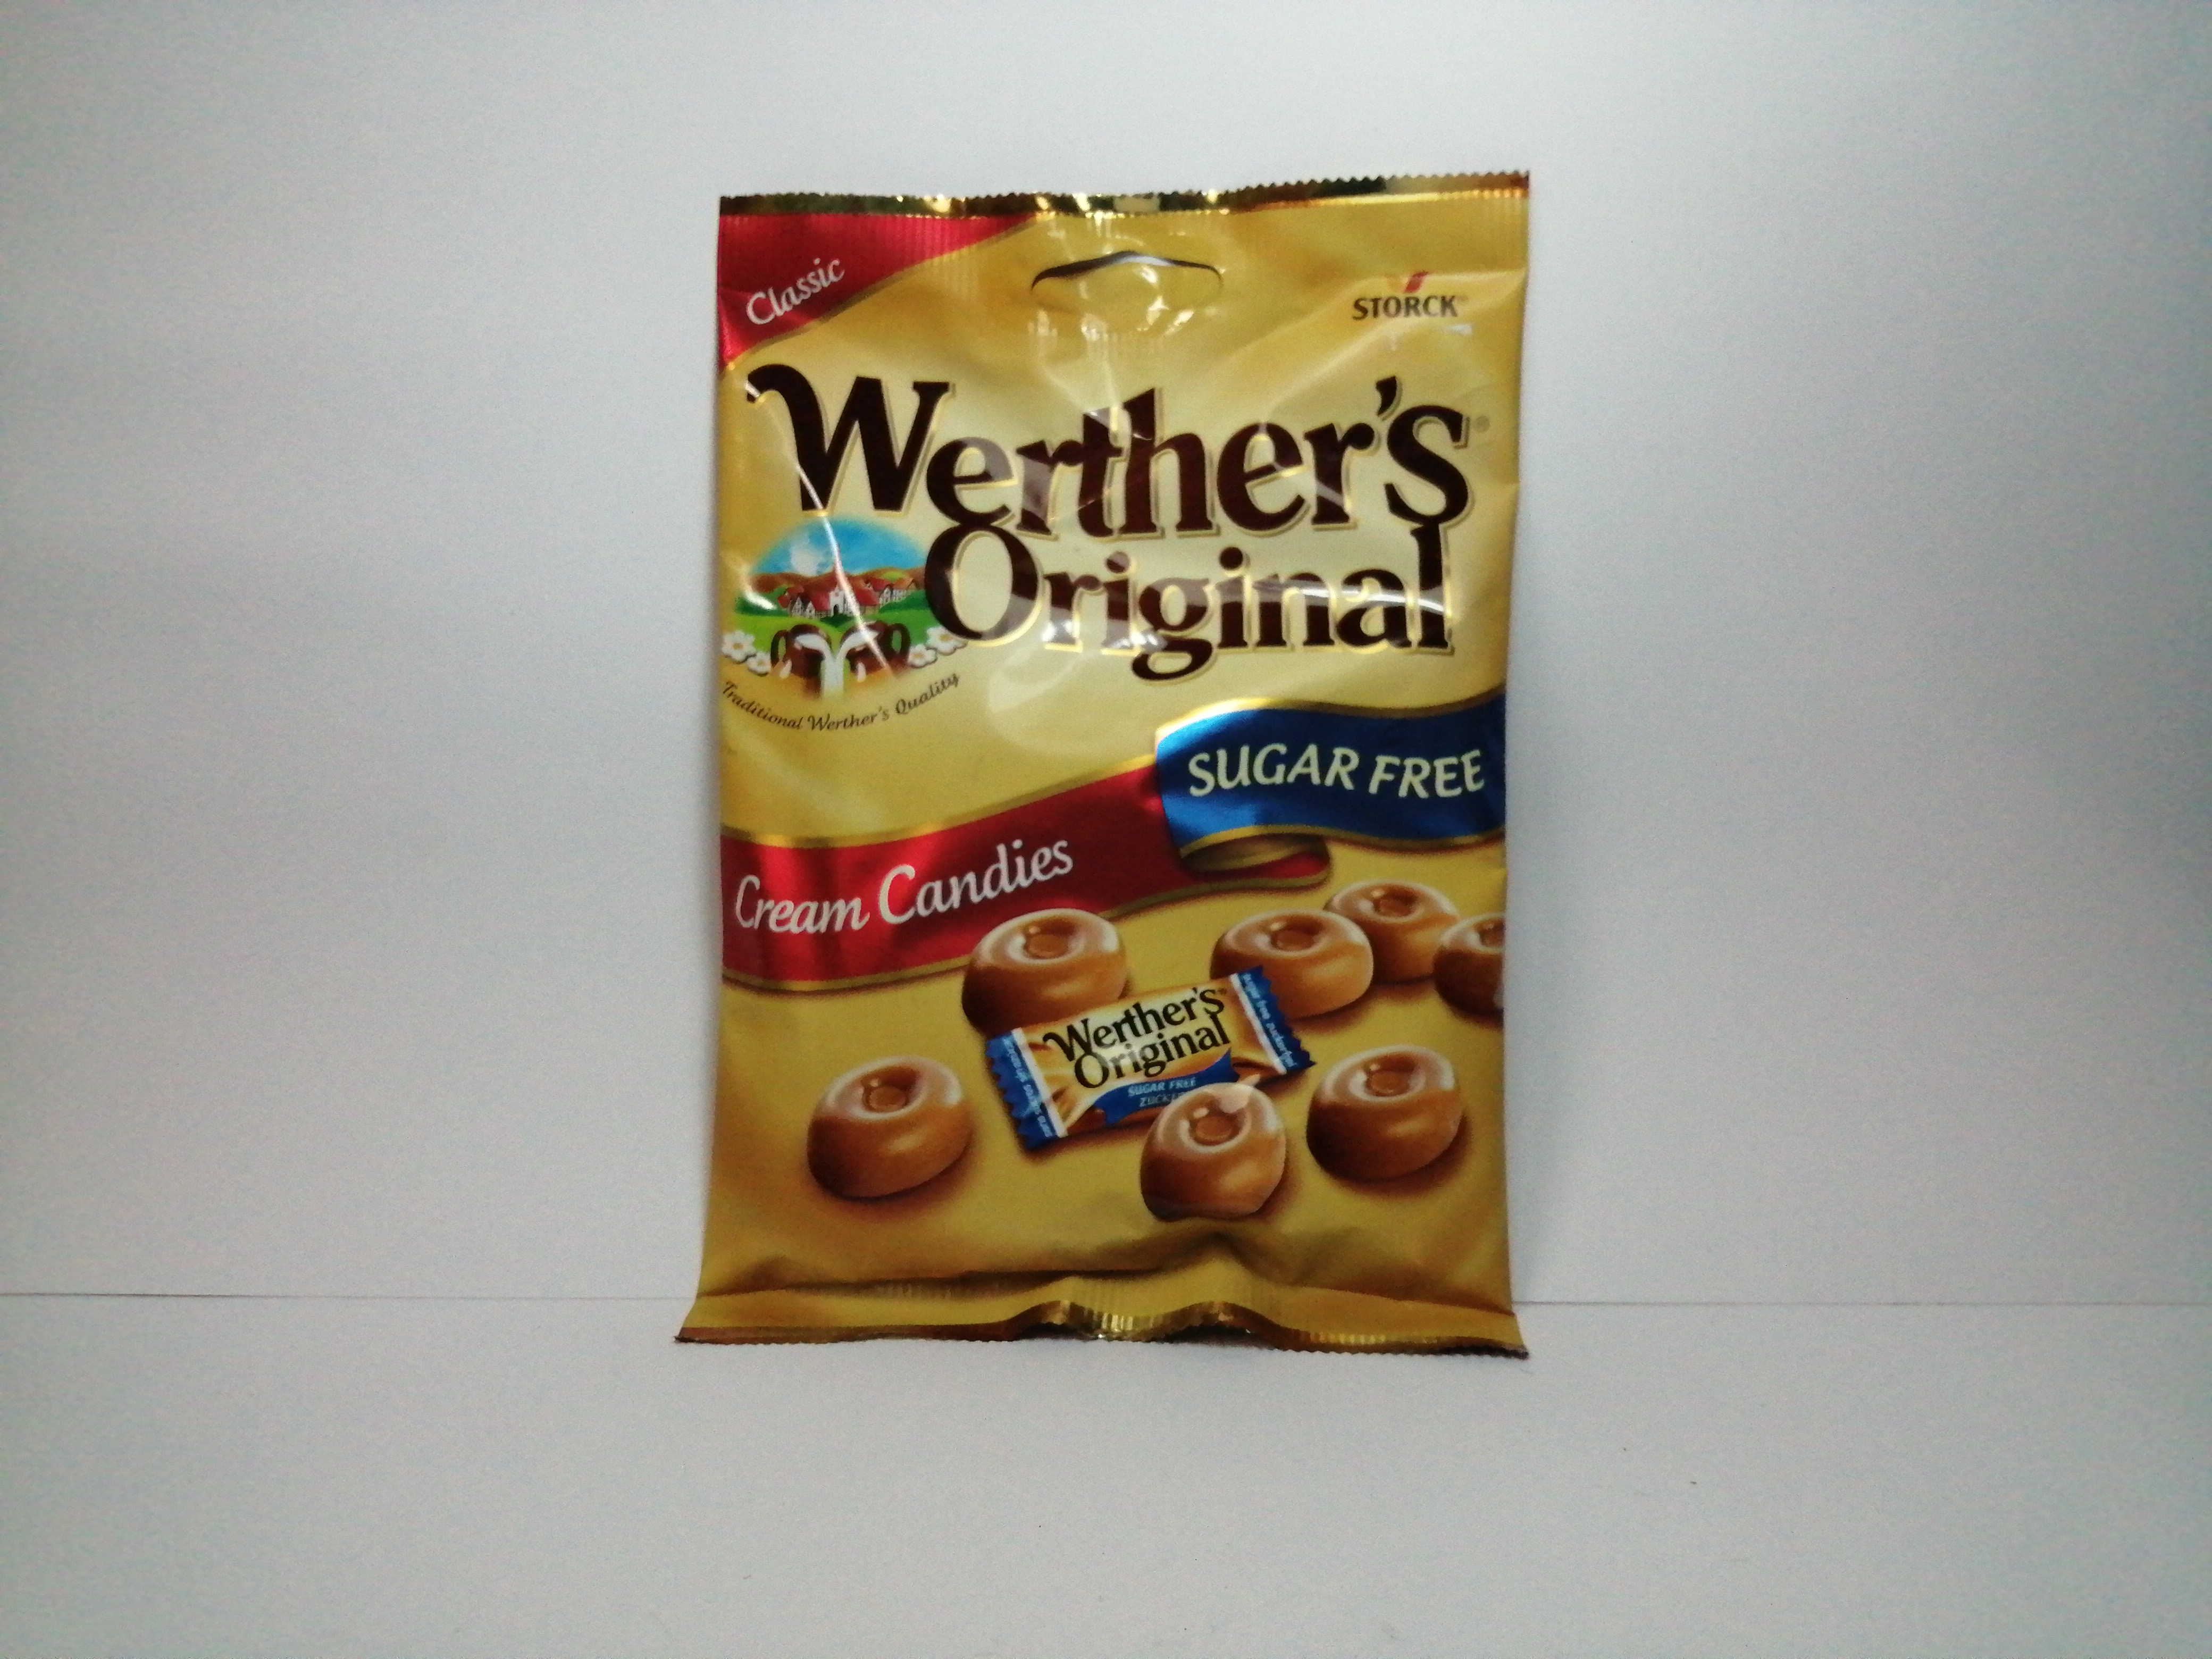dulces: (683, 185, 1536, 1363)
